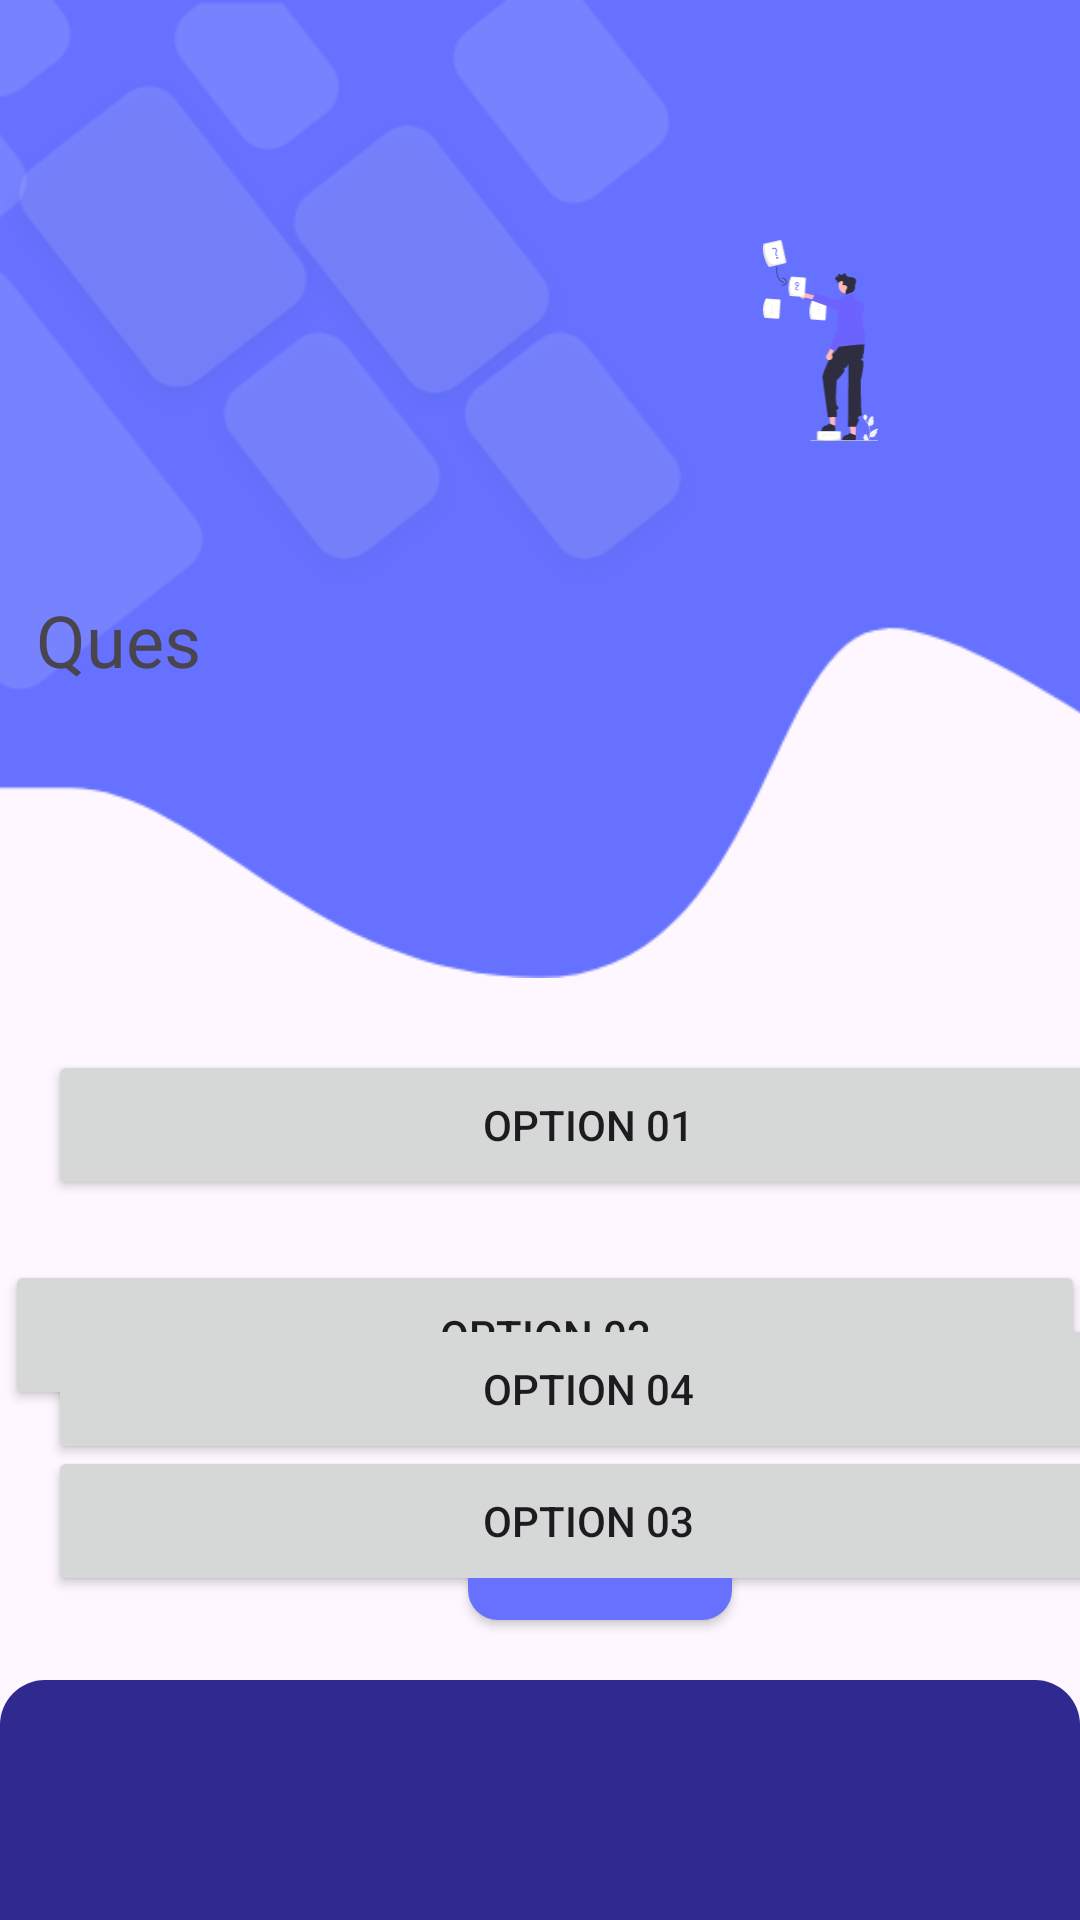

Icon click points for this 1080*1920 phone screenshot, format [x,y]:
single quiz: [820,340]
